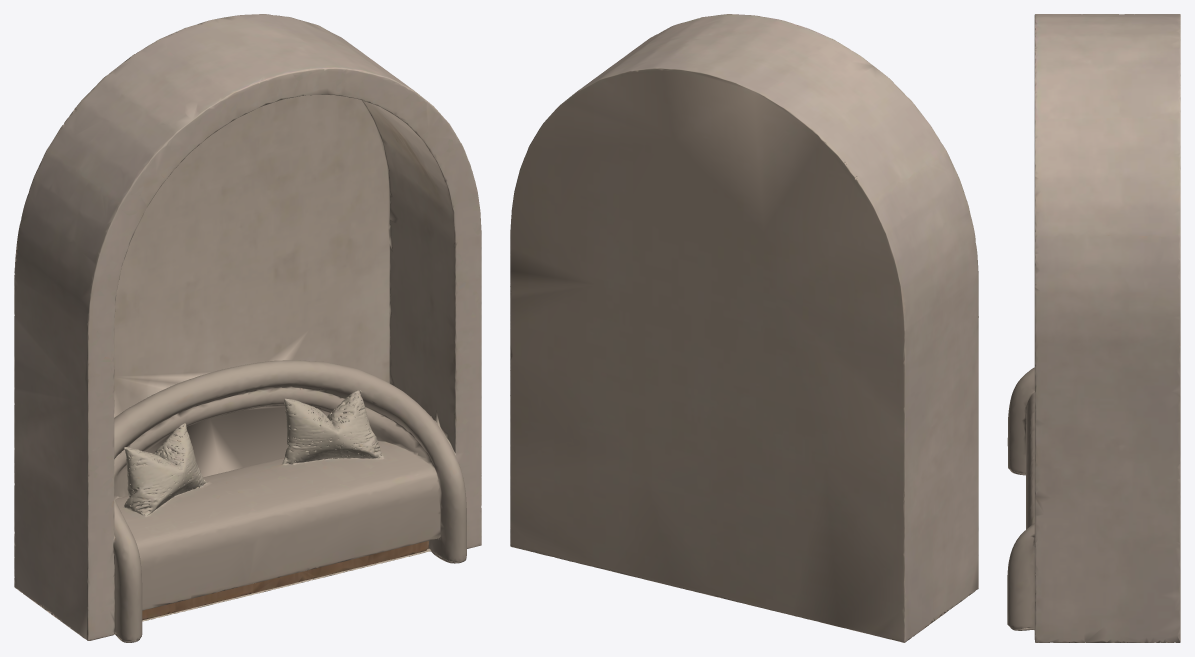
The model's file is item-6.glb.
3 renders of one model, left to right at view 1: azimuth 30°, elevation 25°; view 2: azimuth 150°, elevation 25°; view 3: azimuth 270°, elevation 25°, orthographic.
Visible parts, largest first — view 1: geometry_0; view 2: geometry_0; view 3: geometry_0.
Part boxes in pixels (x1,y1,x2,y2): geometry_0: (14,14,481,642); geometry_0: (510,14,978,642); geometry_0: (1007,14,1180,642).
Size of the model in its own units: 0.7934 by 1 by 0.3071.
Materials: 1 (1 with a texture image).
